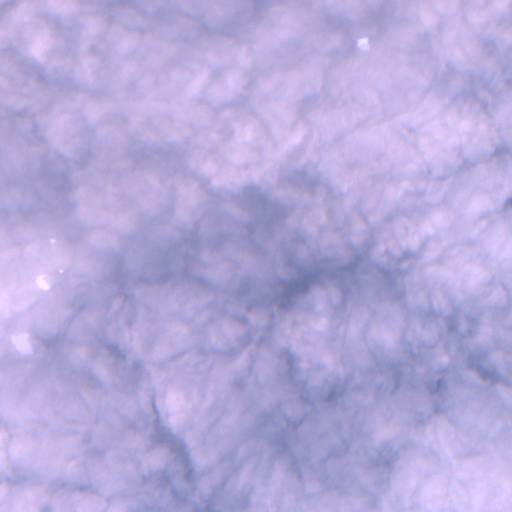Iceberg: (11, 333, 32, 354), (36, 277, 49, 290), (358, 37, 368, 49), (50, 239, 54, 243), (60, 270, 62, 272)
